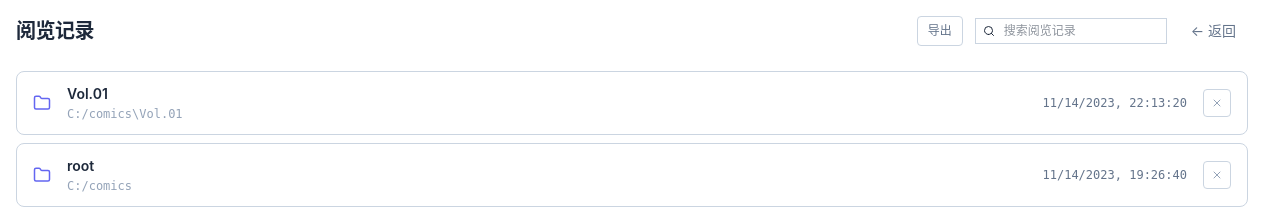
History.vue › 渲染导出按钮，点击调 exportBrowseHistory 且成功后显示条数
This screenshot has width=1265, height=224.
Click the button with test id "btn-export".
click(940, 31)  # box [917,16,963,46]
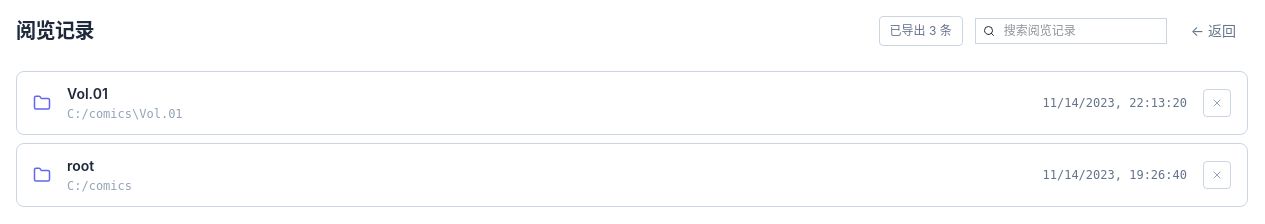
Expected: the button with test id "btn-export" shows "3", [878,16,963,46]
